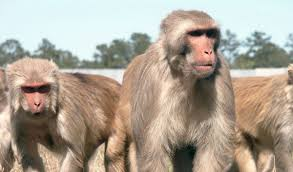monkey: (6, 4, 269, 168)
